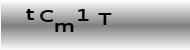1: (76, 8, 91, 22)
C: (39, 9, 53, 22)
T: (96, 11, 113, 26)
m: (53, 22, 75, 33)
t: (24, 8, 36, 21)
